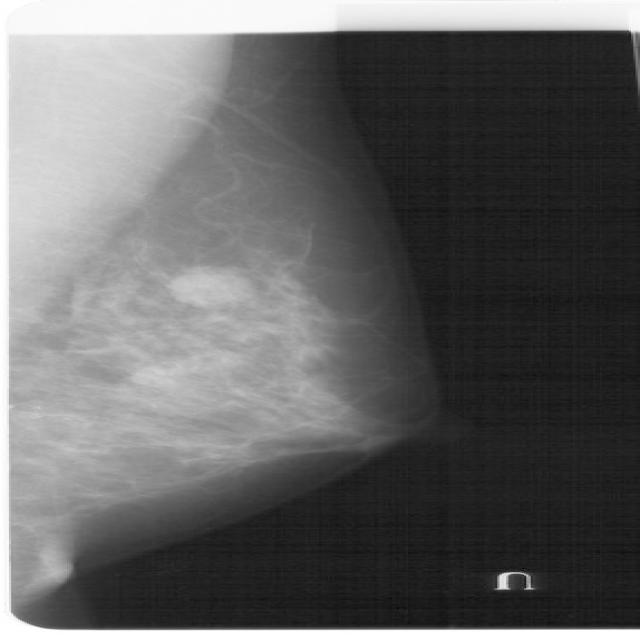tumour: (158, 271, 256, 310)
